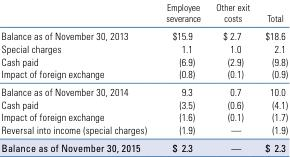table: (0, 0, 286, 153)
table column: (0, 0, 155, 153), (155, 0, 207, 153), (207, 0, 256, 153), (256, 0, 286, 153)
table column header: (0, 0, 286, 26)
table row: (0, 0, 286, 26), (0, 26, 286, 42), (0, 67, 286, 82), (0, 82, 286, 97), (0, 123, 286, 138), (0, 138, 286, 153), (0, 54, 286, 67), (0, 97, 286, 110), (0, 110, 286, 123), (0, 42, 286, 54)
